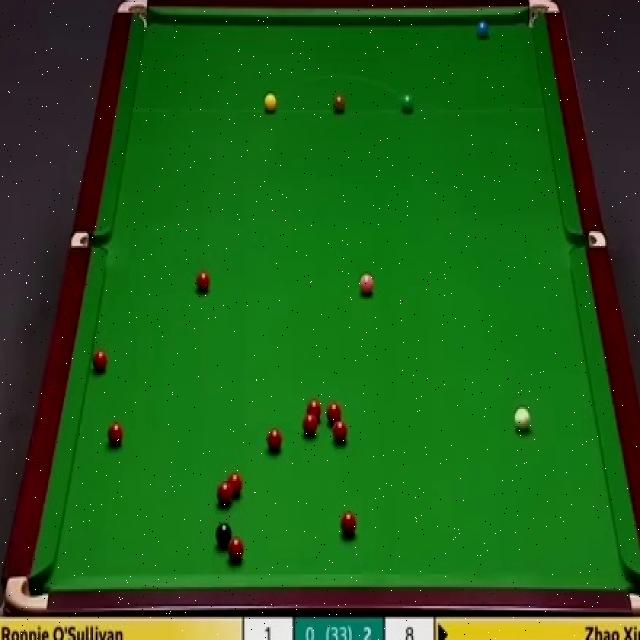black-ball: (214, 522, 233, 550)
blue-ball: (475, 16, 491, 42)
brown-ball: (332, 94, 347, 116)
green-ball: (399, 94, 413, 116)
pink-ball: (358, 269, 378, 298)
red-ball: (226, 537, 246, 566), (106, 420, 124, 449), (214, 482, 234, 508), (90, 347, 108, 375), (195, 269, 212, 294), (267, 430, 284, 455), (340, 512, 356, 538), (332, 419, 348, 444), (302, 414, 318, 439), (305, 399, 322, 422), (228, 472, 244, 495), (326, 403, 342, 424)
white-ball: (513, 406, 531, 434)
yellow-ball: (264, 92, 278, 114)
